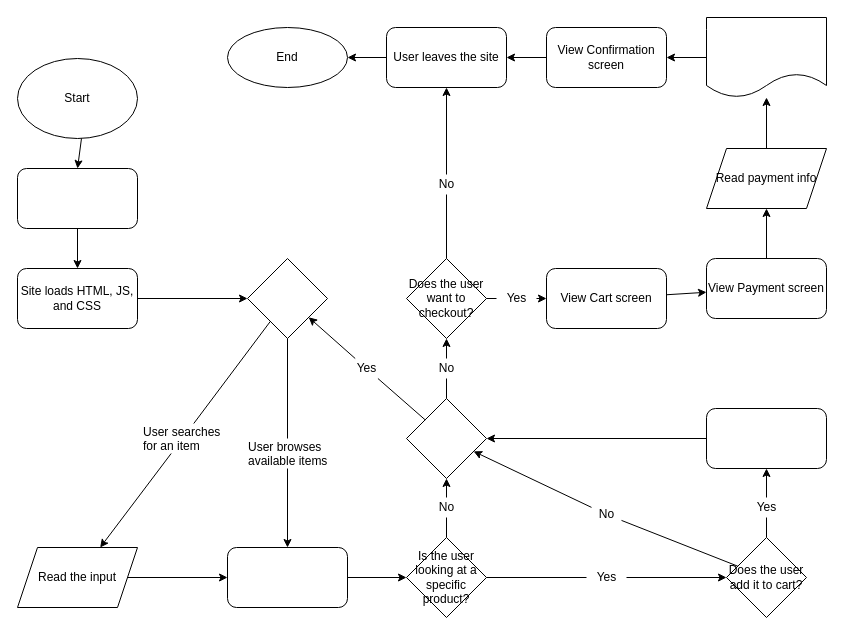
Some shapes in this 844 by 635 pixel diagram are drawn without their labels. The box of each missing label's shape, as (x1, y1, x2, y2) in pixels:
Confirmation the user added it to cart: (706, 408, 826, 468)
Display a list of items: (226, 546, 348, 608)
Does the user continue shopping?: (406, 398, 486, 478)
Send Email confirmation: (706, 16, 826, 98)
User enters site URL: (16, 168, 138, 228)
User looks for items: (246, 258, 328, 338)
